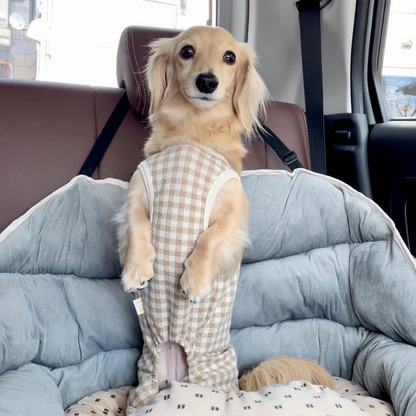dachshund: (121, 23, 274, 384)
